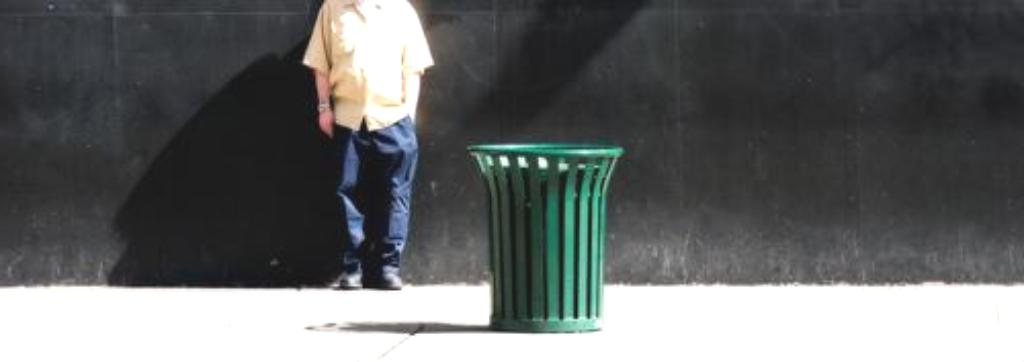dustbin: (453, 138, 626, 353)
